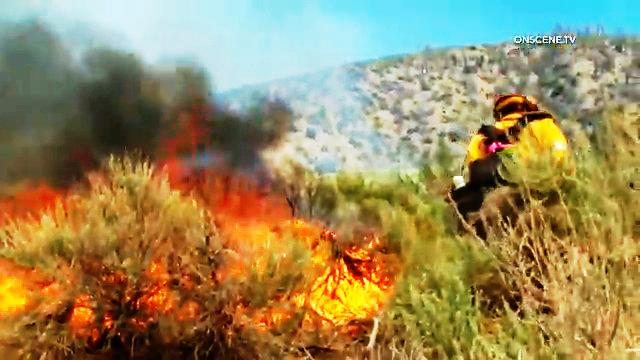fire: (303, 222, 395, 335)
smoke: (0, 2, 291, 172)
